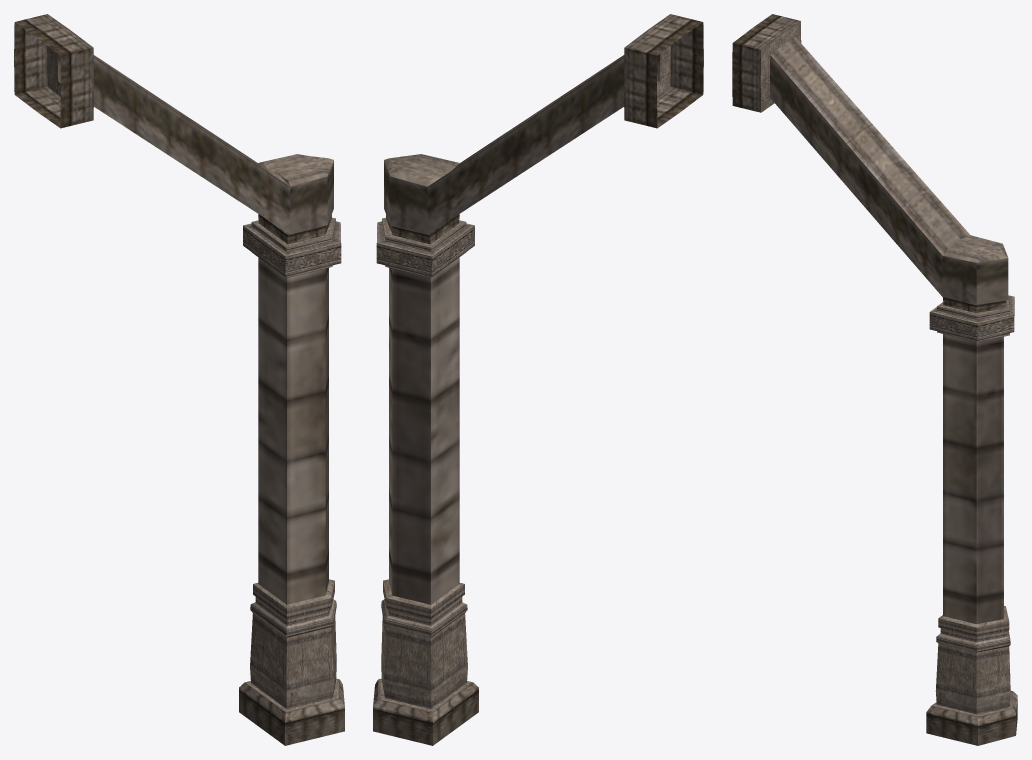
File: SM_zhucheng_Buttress_01.FBX
3 renders of one model, left to right at view 1: azimuth 30°, elevation 25°; view 2: azimuth 150°, elevation 25°; view 3: azimuth 330°, elevation 25°, orthographic. The views are drawn at different scales.
Parts seen in each view (by area): view 1: SM_zhucheng_Buttress_01; view 2: SM_zhucheng_Buttress_01; view 3: SM_zhucheng_Buttress_01.
Boxes of the visible parts, x1,y1,x2,y2 form: SM_zhucheng_Buttress_01: [14, 14, 344, 745]; SM_zhucheng_Buttress_01: [373, 14, 703, 745]; SM_zhucheng_Buttress_01: [732, 14, 1017, 745].
Size of the model in its own units: 94.49 by 220 by 25.2.
